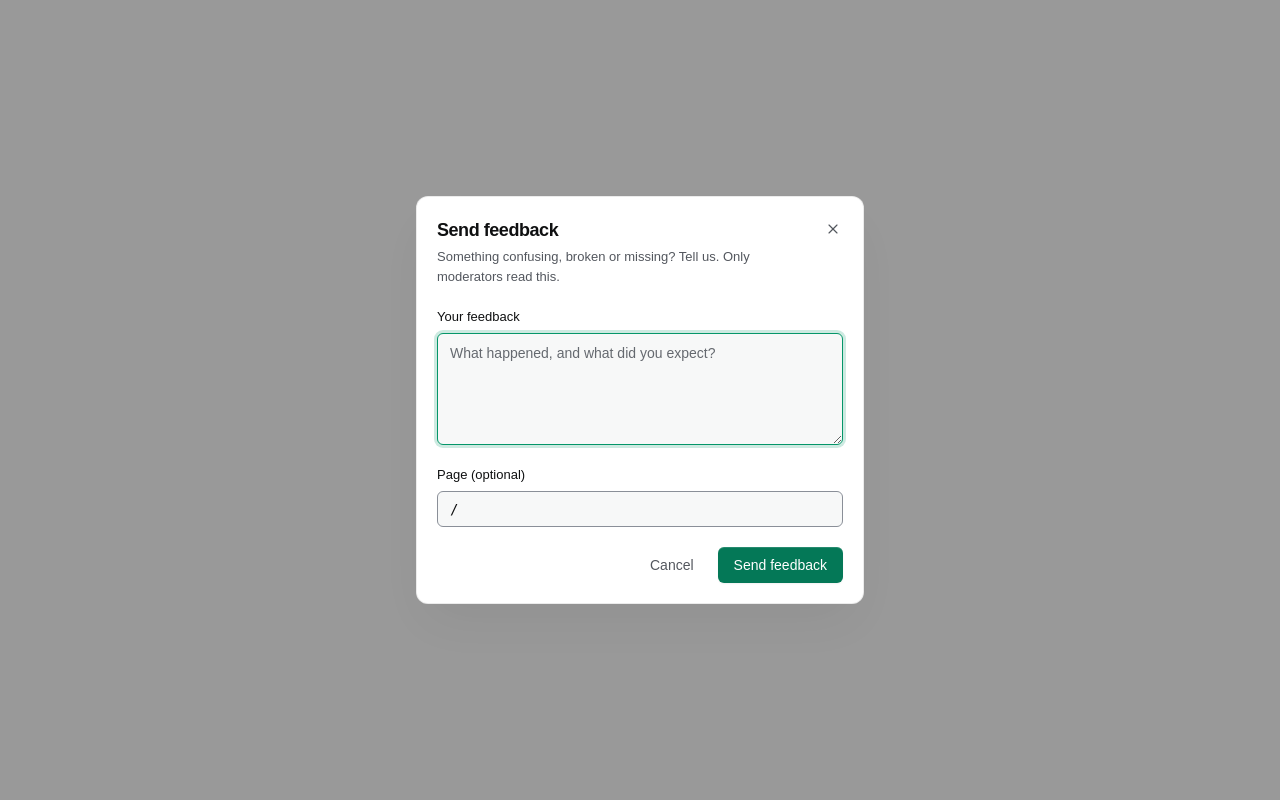
FeedbackDialog › sends the message with the page and thanks the sender
This screenshot has width=1280, height=800.
Step 1. Type "The search box is hard to find" into the text box labelled "Your feedback" → x=640, y=389, box [437,333,843,445]
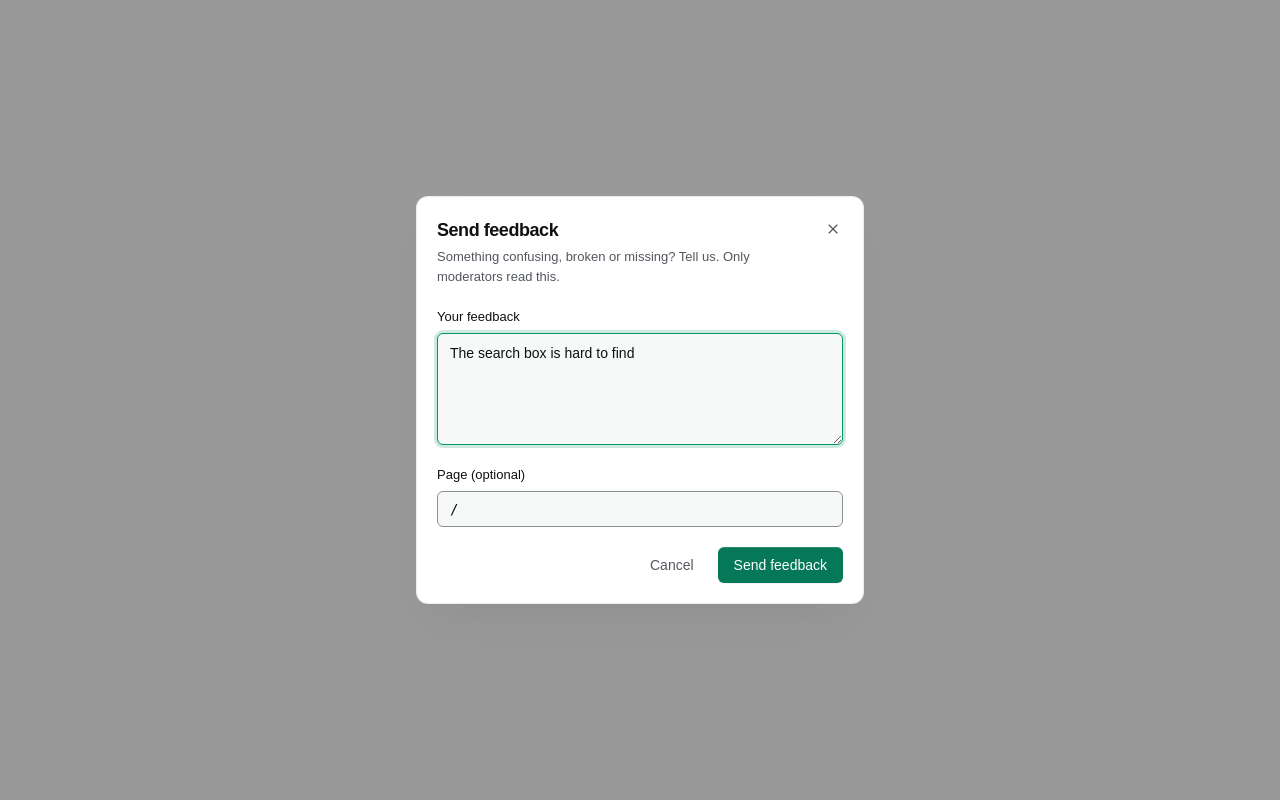
Step 2. Click the button "Send feedback" → x=780, y=565, box [718,547,843,583]
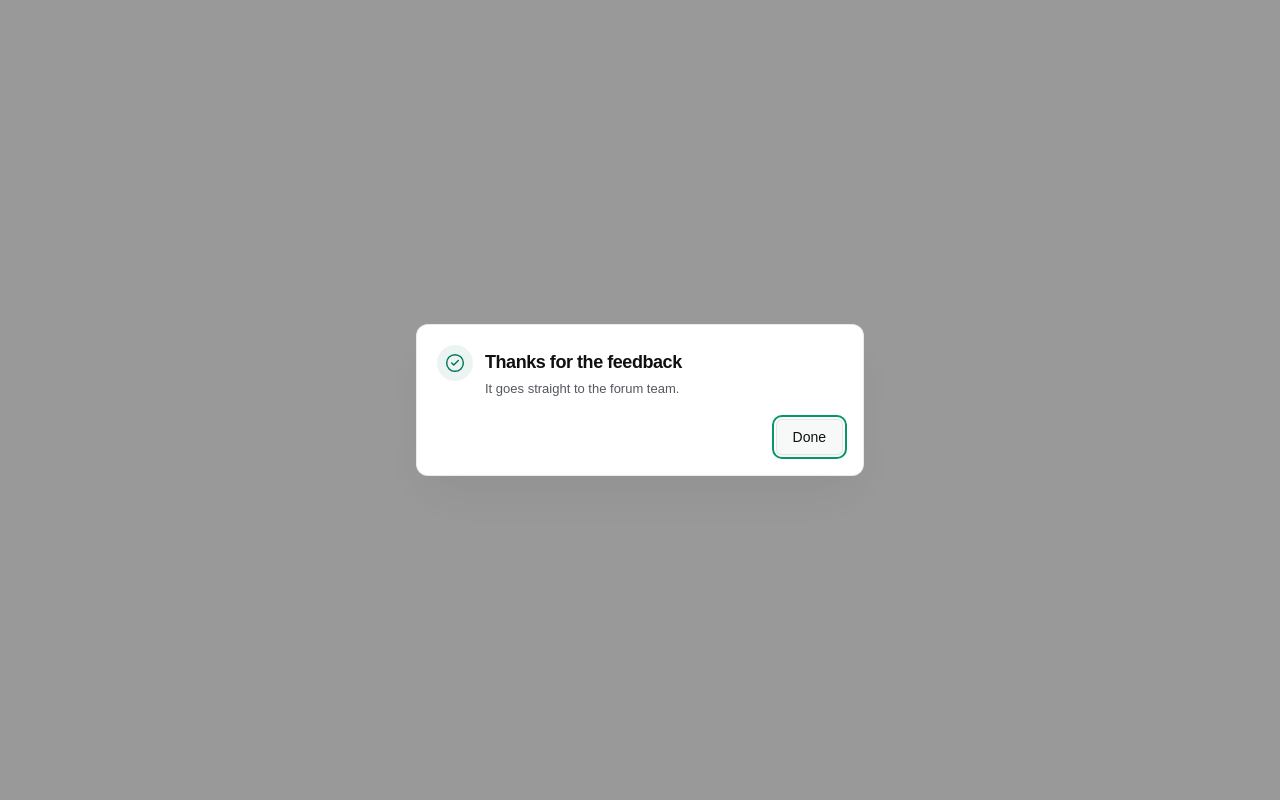
Result: the message shows "Thanks for the feedback" at [485,352,682,372]
